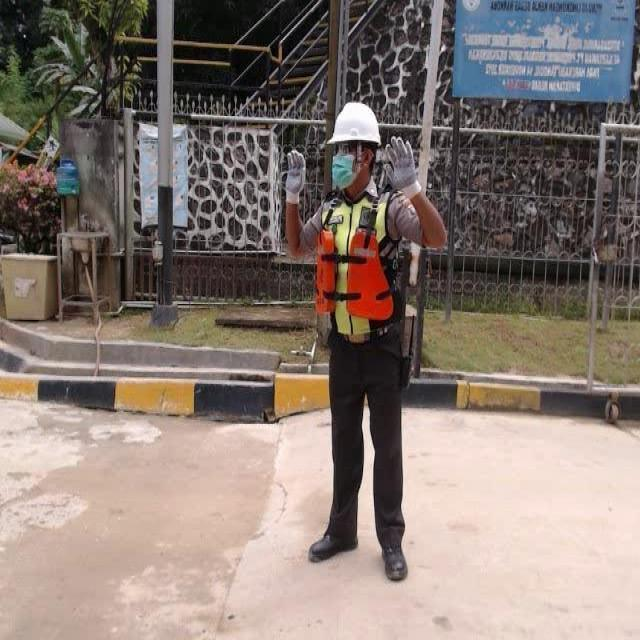gloves: (382, 134, 428, 200), (270, 149, 310, 204)
helmet: (322, 104, 384, 153)
safety_vest: (318, 195, 396, 344)
